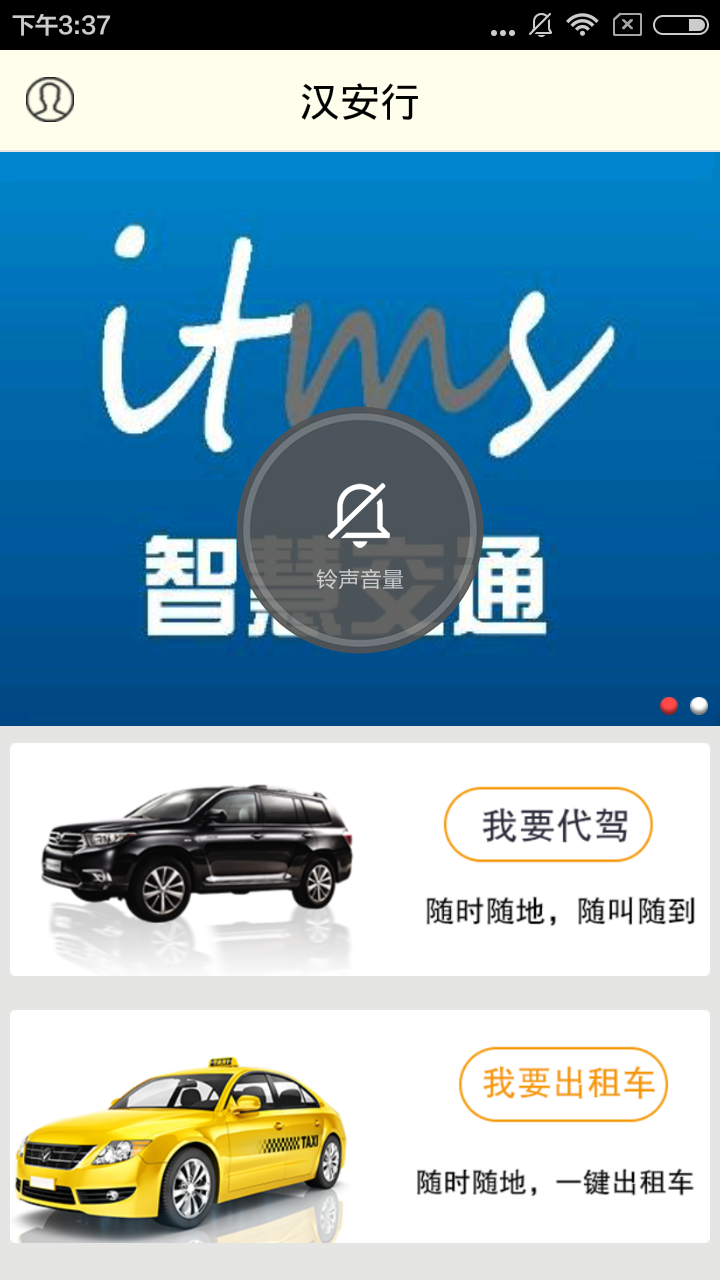textview: (274, 64, 454, 138)
